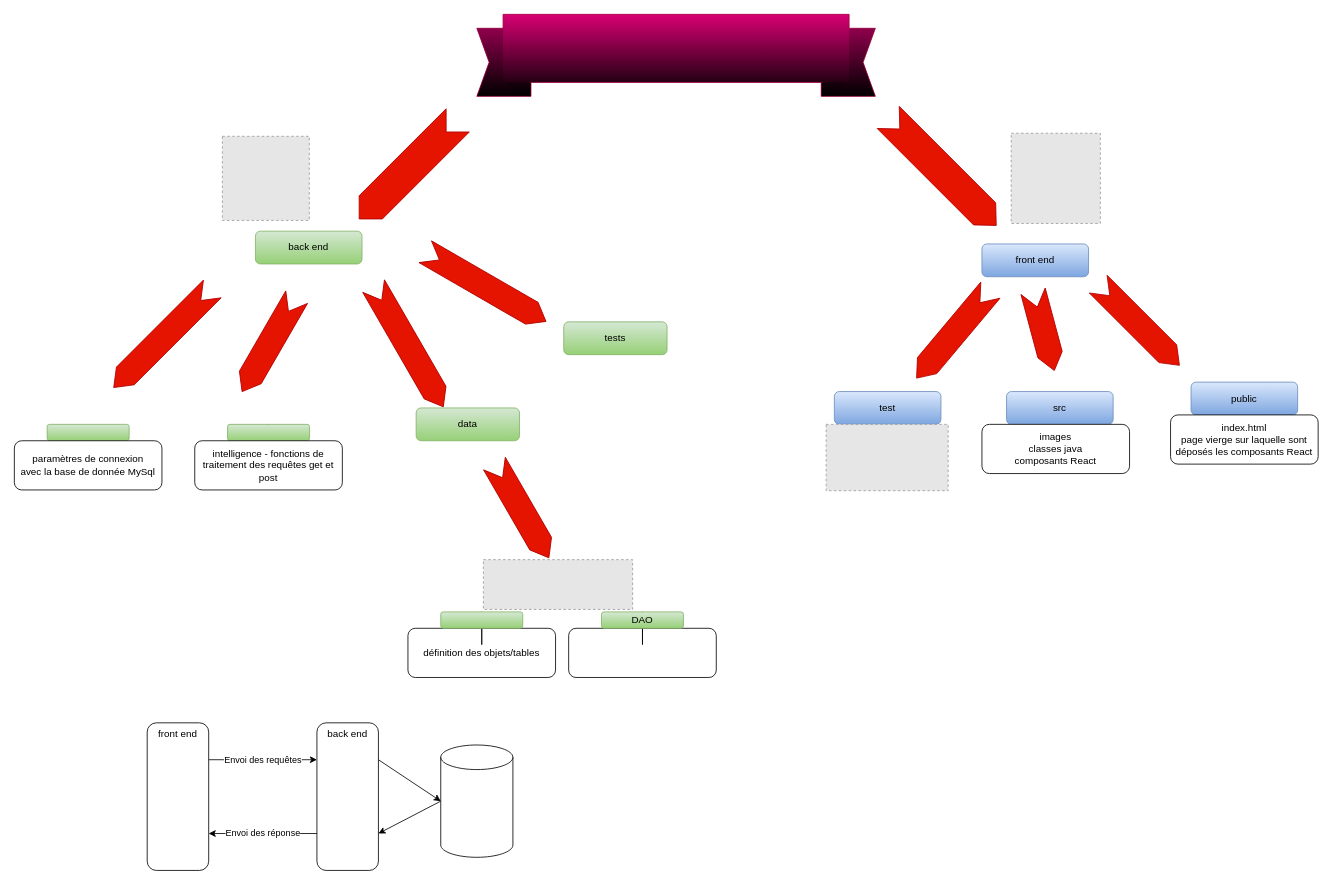
The diagram is 1333 pixels wide and 885 high, and some of its shapes have lost their labels. Grey dashed boxes stand in for pictures. Here are the shapes that lost their labels. From the top down, the box of each, then its label:
(476, 14, 875, 96): SOS Immo
(46, 424, 129, 441): db
(227, 424, 310, 441): services
(440, 611, 523, 628): models
(568, 627, 716, 677): connexion avec db
(440, 744, 513, 857): base de données
